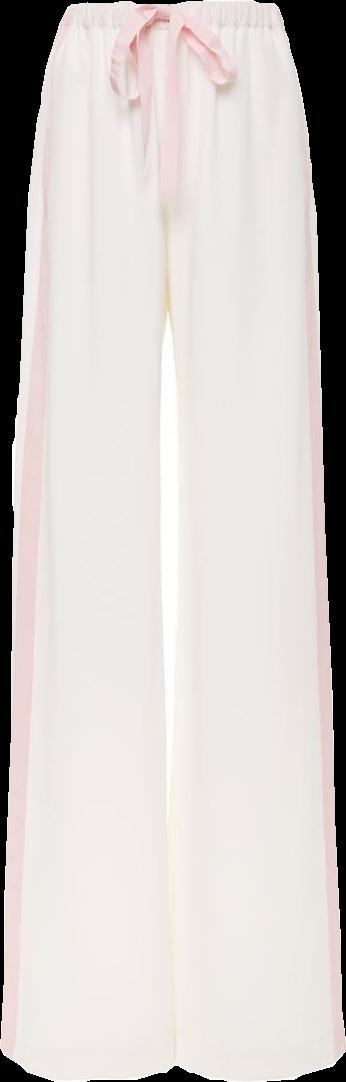Hemline: (0, 1042, 180, 1080), (170, 1044, 345, 1081)
Pantleg: (169, 0, 345, 1081), (1, 3, 170, 1081)
Waistline: (56, 18, 288, 41), (65, 0, 279, 15)
